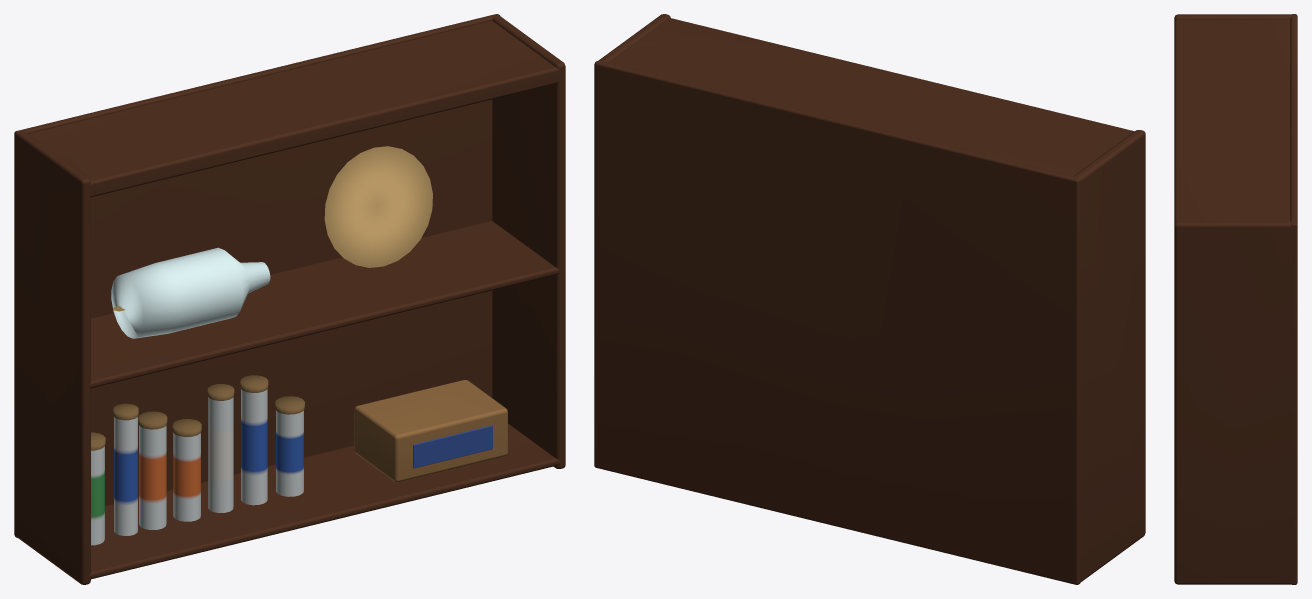
The model's file is furn_lh_shelf.glb.
The picture shows the model from 3 angles, left to right: view 1: azimuth 30°, elevation 25°; view 2: azimuth 150°, elevation 25°; view 3: azimuth 270°, elevation 25°; orthographic projection. The views are drawn at different scales.
Visible parts, largest first — view 1: furn_lh_shelf_main, furn_lh_shelf_clear; view 2: furn_lh_shelf_main; view 3: furn_lh_shelf_main.
Part boxes in pixels (x1,y1,x2,y2): furn_lh_shelf_main: (14,14,565,584); furn_lh_shelf_clear: (111,247,270,338); furn_lh_shelf_main: (594,14,1145,584); furn_lh_shelf_main: (1174,14,1297,584).
Size of the model in its own units: 1.7 by 1.36 by 0.42.
